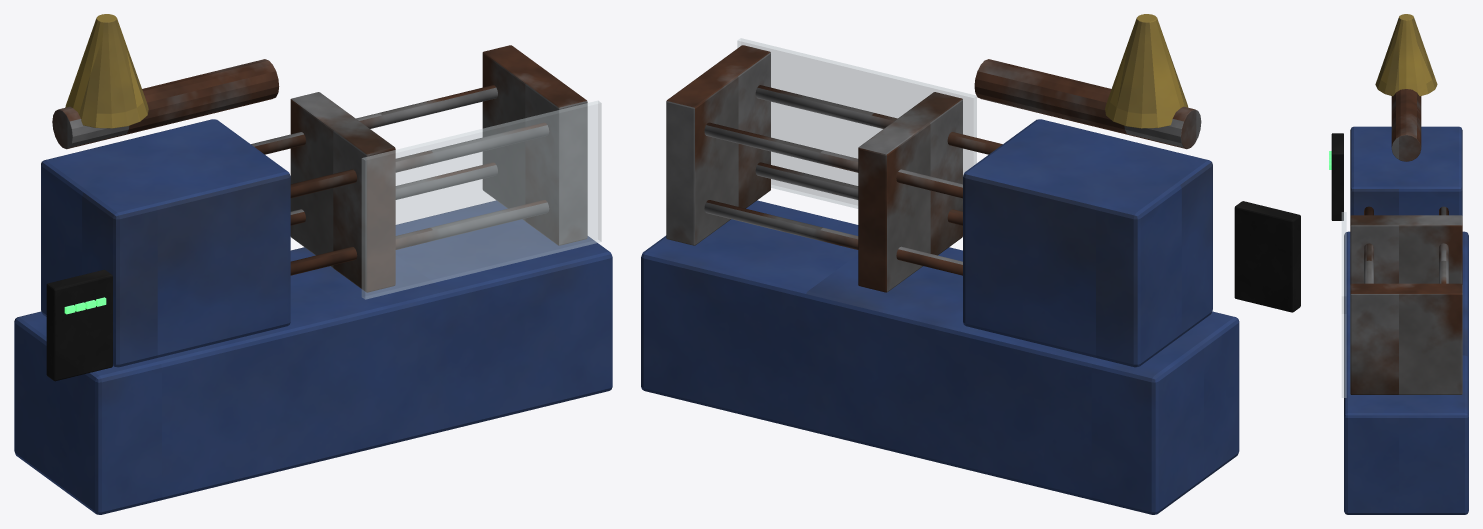
File: HM02_injection_molding_machine.glb
The picture shows the model from 3 angles, left to right: view 1: azimuth 30°, elevation 25°; view 2: azimuth 150°, elevation 25°; view 3: azimuth 270°, elevation 25°; orthographic projection. The views are drawn at different scales.
Parts seen in each view (by area): view 1: HM02_injection_molding_machine; view 2: HM02_injection_molding_machine; view 3: HM02_injection_molding_machine.
Boxes of the visible parts, left/top/right/bottom form: HM02_injection_molding_machine: left=14, top=14, right=612, bottom=514; HM02_injection_molding_machine: left=641, top=14, right=1300, bottom=514; HM02_injection_molding_machine: left=1329, top=14, right=1468, bottom=514.
Bounding box in the file's own units: 3.5 × 2.68 × 1.02.
Materials: 6 (5 with a texture image).
